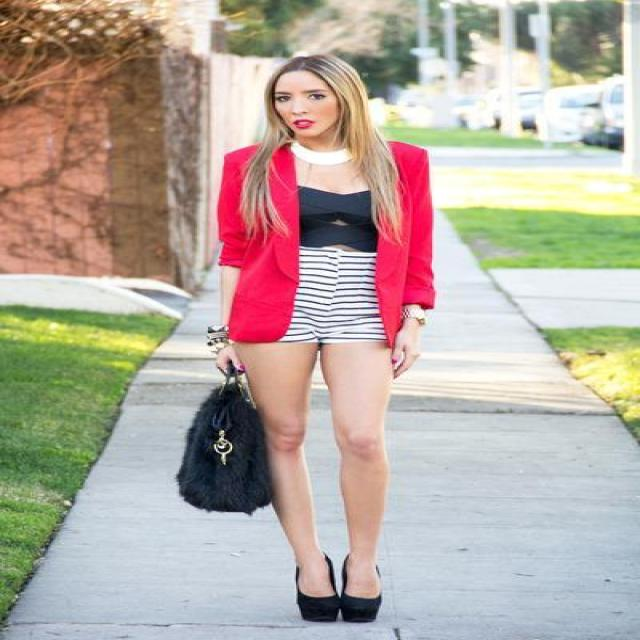bag: (176, 385, 278, 514)
jacket: (217, 142, 433, 344)
shirt: (291, 143, 378, 252)
shoe: (298, 576, 379, 622)
skirt: (288, 246, 382, 351)
